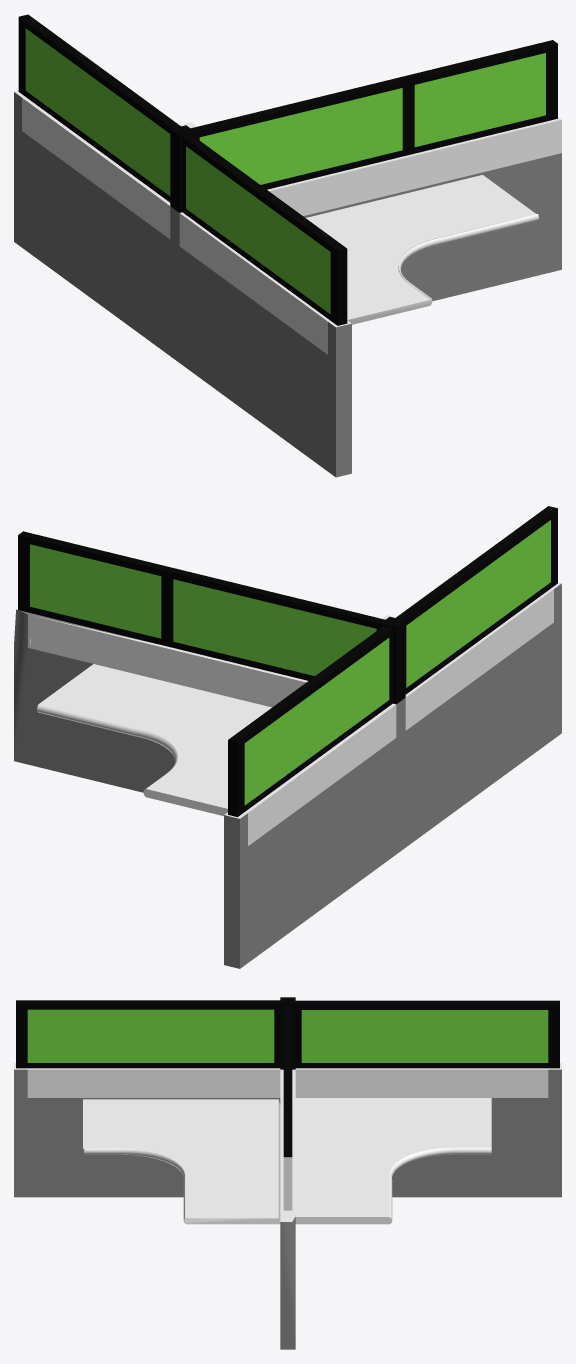
Rendered from cubicle.fbx.
The picture shows the model from 3 angles, top to bottom: view 1: azimuth 30°, elevation 25°; view 2: azimuth 150°, elevation 25°; view 3: azimuth 270°, elevation 25°; orthographic projection. The views are drawn at different scales.
Parts seen in each view (by area): view 1: 3d-model; view 2: 3d-model; view 3: 3d-model.
Part boxes in pixels (box(x1,y1,x2,y2)): 3d-model: box(14, 14, 561, 477); 3d-model: box(14, 506, 561, 968); 3d-model: box(14, 997, 561, 1349).
Size of the model in its own units: 9600 by 5450 by 14000.
